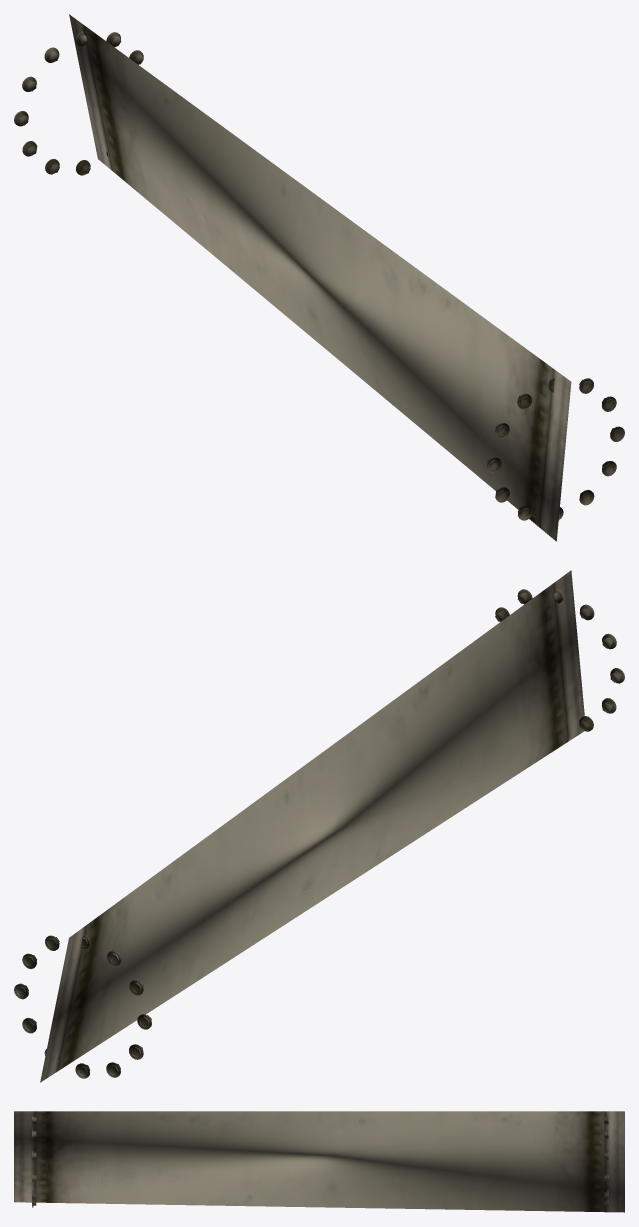
The model's file is pipe_long.glb.
The picture shows the model from 3 angles, top to bottom: view 1: azimuth 30°, elevation 25°; view 2: azimuth 150°, elevation 25°; view 3: azimuth 270°, elevation 25°; orthographic projection. The views are drawn at different scales.
Parts seen in each view (by area): view 1: Cylinder.044_Pipe_0; view 2: Cylinder.044_Pipe_0; view 3: Cylinder.044_Pipe_0.
Part boxes in pixels (left/top/right/bottom): Cylinder.044_Pipe_0: left=14, top=14, right=624, bottom=541; Cylinder.044_Pipe_0: left=14, top=570, right=624, bottom=1082; Cylinder.044_Pipe_0: left=14, top=1111, right=624, bottom=1212.
Size of the model in its own units: 0.2605 by 0.2836 by 1.65.
1 material, 1 textured.
